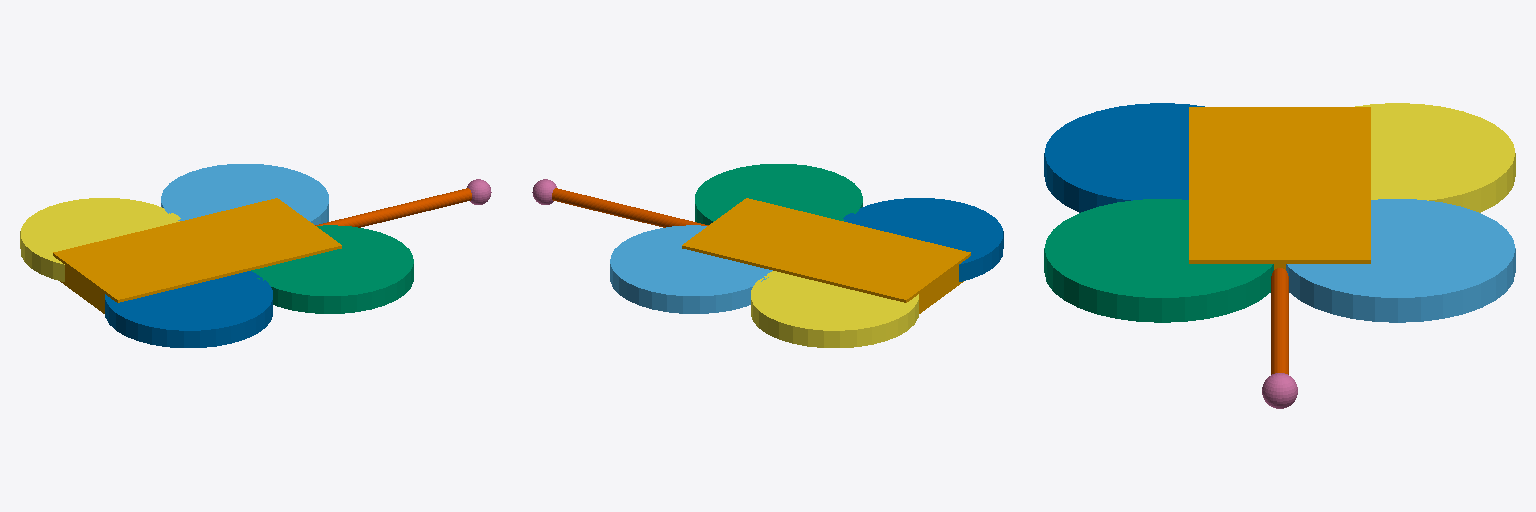
robot.urdf — drone:
<?xml version="1.0"?>
   <robot name="drone">

     <link name="base_link">
       <visual>
		 <origin xyz="0 0 0" rpy="0 0 0" />
         <geometry>
           <box size="0.4 0.2 0.04"/>
         </geometry>
       </visual>
       <collision>
		  <origin xyz="0 0 0" rpy="0 0 0" />
          <geometry>
            <box size="0.4 0.04 0.04"/>
          </geometry>
        </collision>
        <!--<inertial>
           <mass value="0.3"/>
           <inertia ixx="1.0" ixy="0.0" ixz="0.0" iyy="1.0" iyz="0.0" izz="1.0"/>
         </inertial>-->
     </link>

     <link name="FL">
       <visual>
		 <origin xyz="0.16 0.13 0" rpy="0 0 0" />
         <geometry>
            <cylinder length="0.03" radius="0.13"/>
         </geometry>
       </visual>
       <collision>
          <origin xyz="0.16 0.13 0" rpy="0 0 0" />
          <geometry>
            <cylinder length="0.03" radius="0.13"/>
          </geometry>
        </collision>
        <inertial>
           <mass value="0.2"/>
           <inertia ixx="1.0" ixy="0.0" ixz="0.0" iyy="1.0" iyz="0.0" izz="1.0"/>
         </inertial>
     </link>
     <link name="FR">
       <visual>
		 <origin xyz="0.16 -0.13 0" rpy="0 0 0" />
         <geometry>
            <cylinder length="0.03" radius="0.13"/>
         </geometry>
       </visual>
       <collision>
          <origin xyz="0.16 -0.13 0" rpy="0 0 0" />
          <geometry>
            <cylinder length="0.03" radius="0.13"/>
          </geometry>
        </collision>
        <inertial>
           <mass value="0.2"/>
           <inertia ixx="1.0" ixy="0.0" ixz="0.0" iyy="1.0" iyz="0.0" izz="1.0"/>
         </inertial>
     </link>
     <link name="BL">
       <visual>
		 <origin xyz="-0.09 0.13 0" rpy="0 0 0" />
         <geometry>
            <cylinder length="0.03" radius="0.13"/>
         </geometry>
       </visual>
       <collision>
          <origin xyz="-0.09 0.13 0" rpy="0 0 0" />
          <geometry>
            <cylinder length="0.03" radius="0.13"/>
          </geometry>
        </collision>
        <inertial>
           <mass value="0.2"/>
           <inertia ixx="1.0" ixy="0.0" ixz="0.0" iyy="1.0" iyz="0.0" izz="1.0"/>
         </inertial>
     </link>
     <link name="BR">
       <visual>
		 <origin xyz="-0.09 -0.13 0" rpy="0 0 0" />
         <geometry>
            <cylinder length="0.03" radius="0.13"/>
         </geometry>
       </visual>
       <collision>
          <origin xyz="-0.09 -0.13 0" rpy="0 0 0" />
          <geometry>
            <cylinder length="0.03" radius="0.13"/>
          </geometry>
        </collision>
        <inertial>
           <mass value="0.2"/>
           <inertia ixx="1.0" ixy="0.0" ixz="0.0" iyy="1.0" iyz="0.0" izz="1.0"/>
         </inertial>
     </link>
     
     <link name="stick">
       <visual>
		 <origin xyz="0.25 0 0" rpy="0 1.57 0" />
         <geometry>
            <cylinder length="0.5" radius="0.01"/>
         </geometry>
       </visual>
       <collision>
          <origin xyz="0 0 0" rpy="0 0 0" />
          <geometry>
            <cylinder length="0.3" radius="0.01"/>
          </geometry>
        </collision>
        <inertial>
           <mass value="0.1"/>
           <inertia ixx="1.0" ixy="0.0" ixz="0.0" iyy="1.0" iyz="0.0" izz="1.0"/>
         </inertial>
     </link>
     <link name="sphere">
       <visual>
		 <origin xyz="0.5 0 0" rpy="0 0 0" />
         <geometry>
            <sphere radius="0.02"/>
         </geometry>
       </visual>
       <collision>
          <origin xyz="0.5 0 0" rpy="0 0 0" />
          <geometry>
            <sphere radius="0.02"/>
          </geometry>
        </collision>
        <inertial>
           <mass value="0.2"/>
           <inertia ixx="1.0" ixy="0.0" ixz="0.0" iyy="1.0" iyz="0.0" izz="1.0"/>
         </inertial>
     </link>
     
	 
     <joint name="base_to_FL" type="fixed">
       <parent link="base_link"/>
       <child link="FL"/>
     </joint>
     <joint name="base_to_FR" type="fixed">
       <parent link="base_link"/>
       <child link="FR"/>
     </joint>
     <joint name="base_to_BL" type="fixed">
       <parent link="base_link"/>
       <child link="BL"/>
     </joint>
     <joint name="base_to_BR" type="fixed">
       <parent link="base_link"/>
       <child link="BR"/>
     </joint>
     
     <joint name="base_to_stick" type="fixed">
       <parent link="base_link"/>
       <child link="stick"/>
     </joint>
     <joint name="stick_to_sphere" type="fixed">
       <parent link="stick"/>
       <child link="sphere"/>
     </joint>
     
     
   </robot>

--- Render facts (derived) ---
3 views of the same robot in one strip: view 1: azimuth 30°, elevation 25°; view 2: azimuth 150°, elevation 25°; view 3: azimuth 270°, elevation 25° (orthographic).
Robot: drone — 7 links, 6 joints (6 fixed); root link base_link; default pose: all joints at 0.
Links seen in each view (by area): view 1: base_link, FR, BR, FL, BL, stick; view 2: base_link, FL, BL, FR, BR, stick; view 3: base_link, FL, FR, BL, BR, stick, sphere.
Link boxes in pixels (x1,y1,x2,y2): base_link: (53,198,341,313); FR: (251,225,413,313); BR: (105,271,272,347); FL: (161,164,328,224); BL: (20,198,180,281); stick: (315,188,471,227); base_link: (682,198,970,313); FL: (610,225,772,313); BL: (751,271,918,347); FR: (695,164,862,224); BR: (843,198,1003,281); stick: (552,188,708,227); base_link: (1189,107,1370,269); FL: (1286,199,1515,322); FR: (1044,199,1273,322); BL: (1355,103,1515,212); BR: (1044,103,1204,212); stick: (1271,268,1288,374); sphere: (1262,373,1297,408).
Bounding box of the posed robot: 0.74 × 0.52 × 0.04 m (x, y, z).
Geometry: primitives only (box / cylinder / sphere), no mesh files.